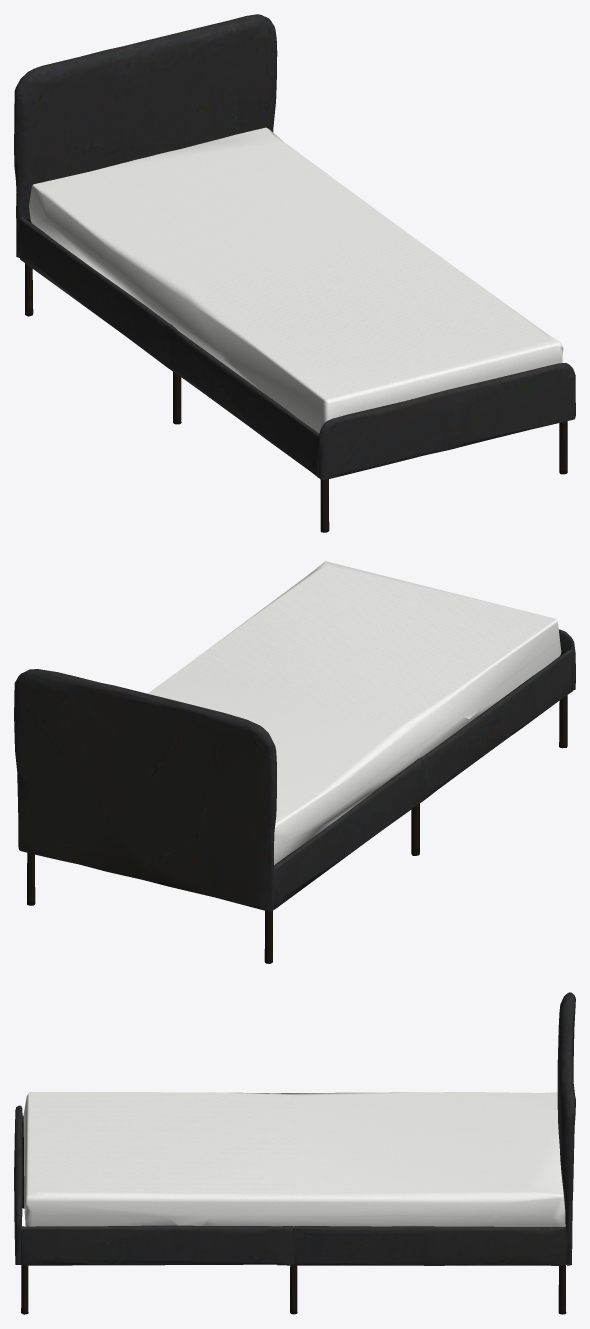
File: bed-1.glb
3 views of the same model, one above another, from view 1: azimuth 30°, elevation 25°; view 2: azimuth 150°, elevation 25°; view 3: azimuth 270°, elevation 25° (orthographic). The views are drawn at different scales.
Parts seen in each view (by area): view 1: model, ASY_ART_90578737_S01_NV01; view 2: ASY_ART_90578737_S01_NV01, model; view 3: model, ASY_ART_90578737_S01_NV01.
Part boxes in pixels (x1,y1,x2,y2): model: (29,127,563,433); ASY_ART_90578737_S01_NV01: (14,14,575,532); ASY_ART_90578737_S01_NV01: (14,629,575,963); model: (147,561,561,864); model: (23,1092,565,1226); ASY_ART_90578737_S01_NV01: (14,992,575,1314).
Size of the model in its own units: 0.9656 by 0.852 by 1.97.
Materials: 3 (3 with a texture image).
